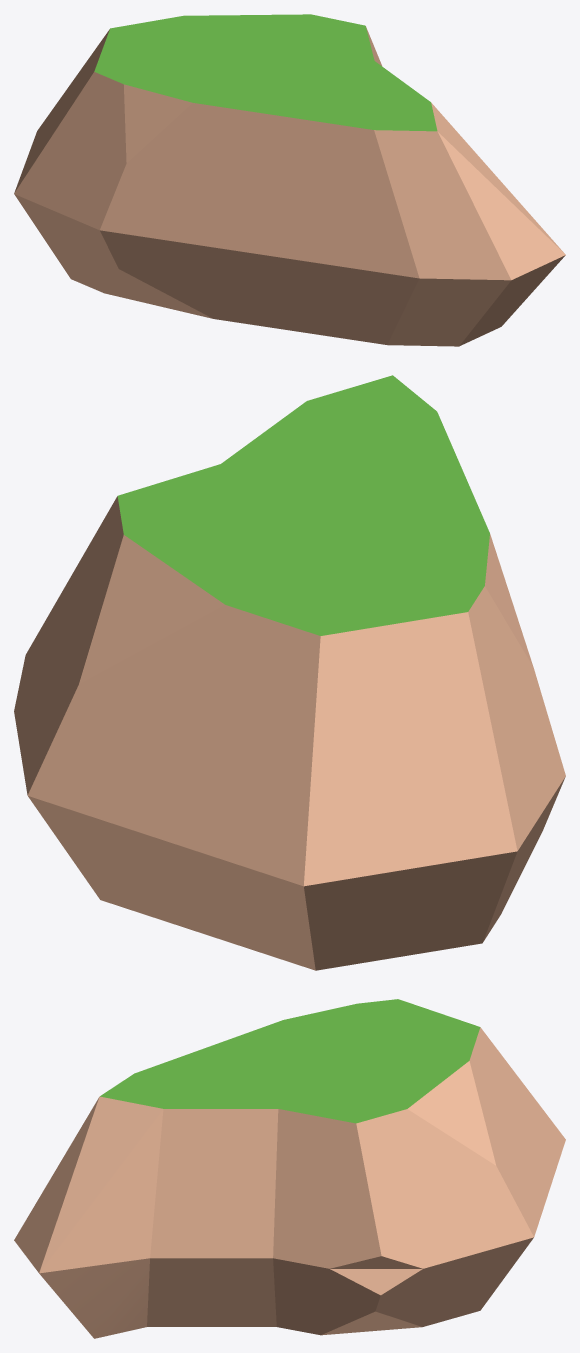
Rendered from rock_1.fbx.
The picture shows the model from 3 angles, top to bottom: view 1: azimuth 30°, elevation 25°; view 2: azimuth 150°, elevation 25°; view 3: azimuth 270°, elevation 25°; orthographic projection. The views are drawn at different scales.
Parts seen in each view (by area): view 1: rock_1; view 2: rock_1; view 3: rock_1.
Boxes of the visible parts, x1,y1,x2,y2 form: rock_1: [14, 14, 565, 346]; rock_1: [14, 375, 565, 970]; rock_1: [14, 999, 565, 1338].
Bounding box in the file's own units: 0.7667 × 0.4303 × 1.02.
1 material, 1 textured.
